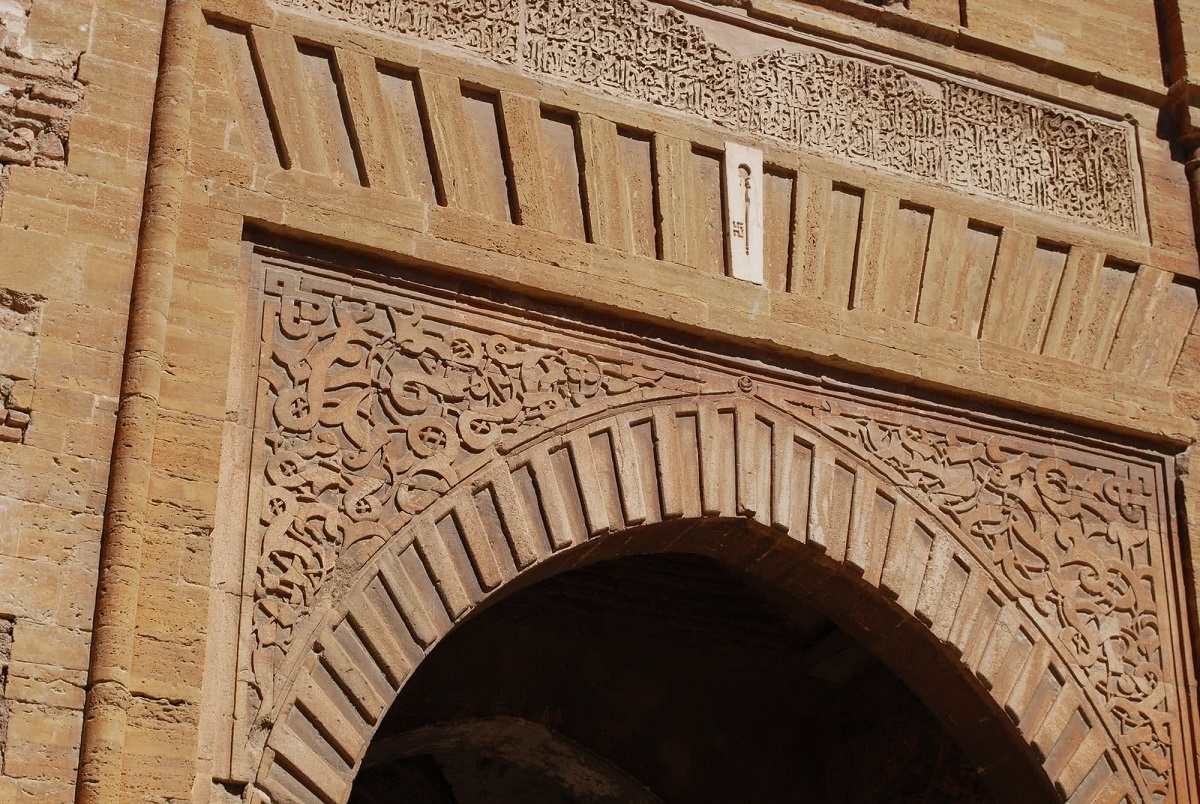dintel-adovelado: (213, 1, 1200, 456)
